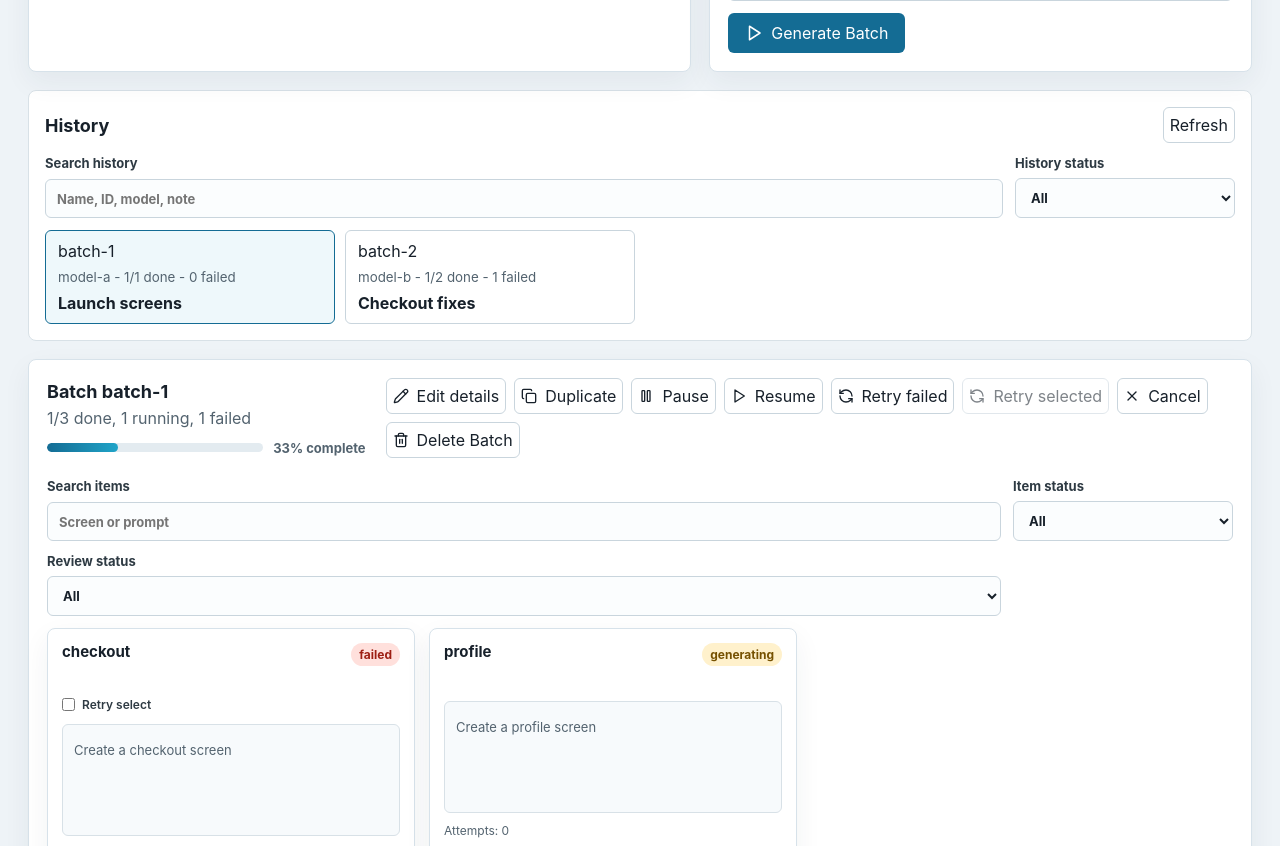
Scenario: App › duplicates the selected batch into the input form
(page scrolled)
Expected: the heading "Batch batch-1" is shown, [47,380,168,402]
What coordinates should you click on to do the following:
click the button "Duplicate"
I would click on:
 (569, 396)
Its box is [514,378,624,414].
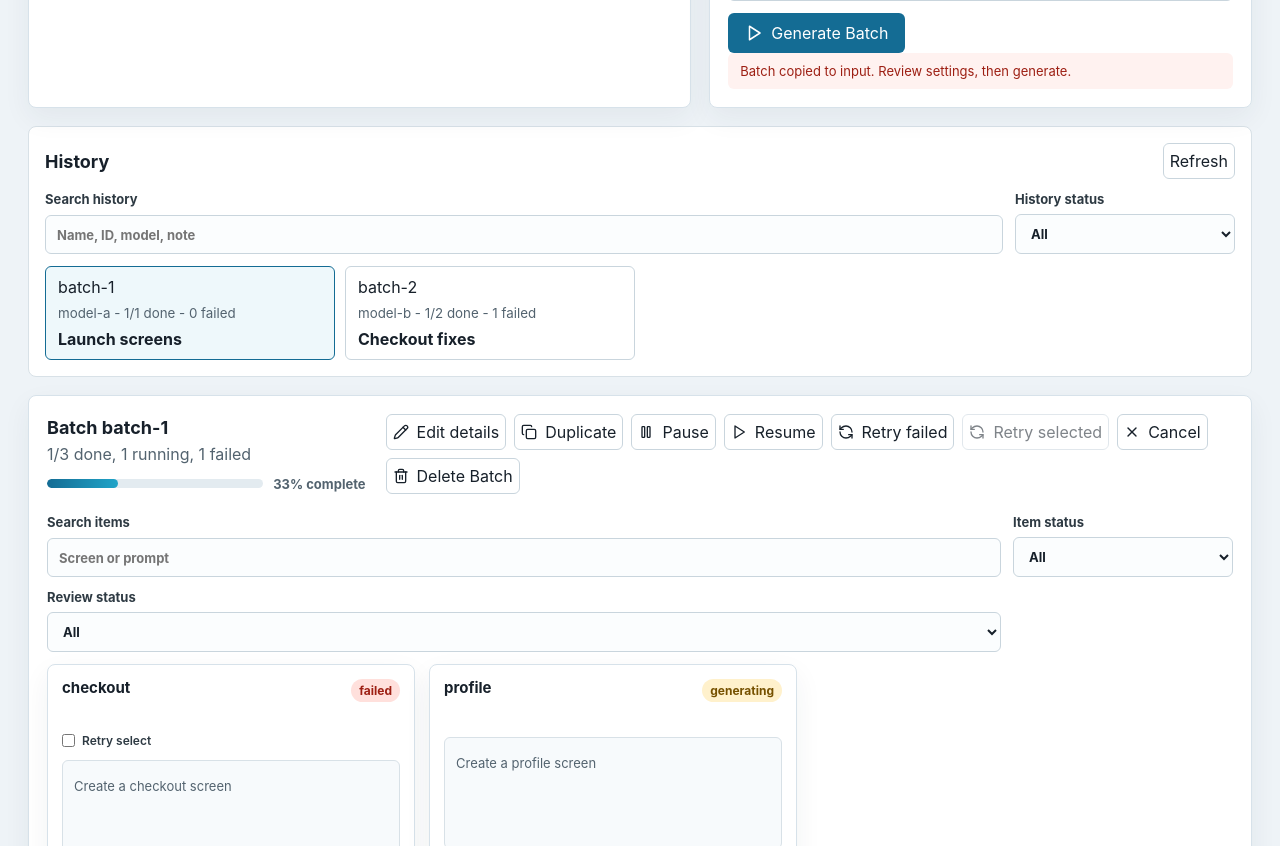
Expected: the text "Batch copied to input. Review settings, then generate." is shown, [728,53,1233,89]
